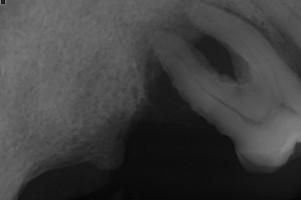Dental Caries: (134, 0, 238, 96)
